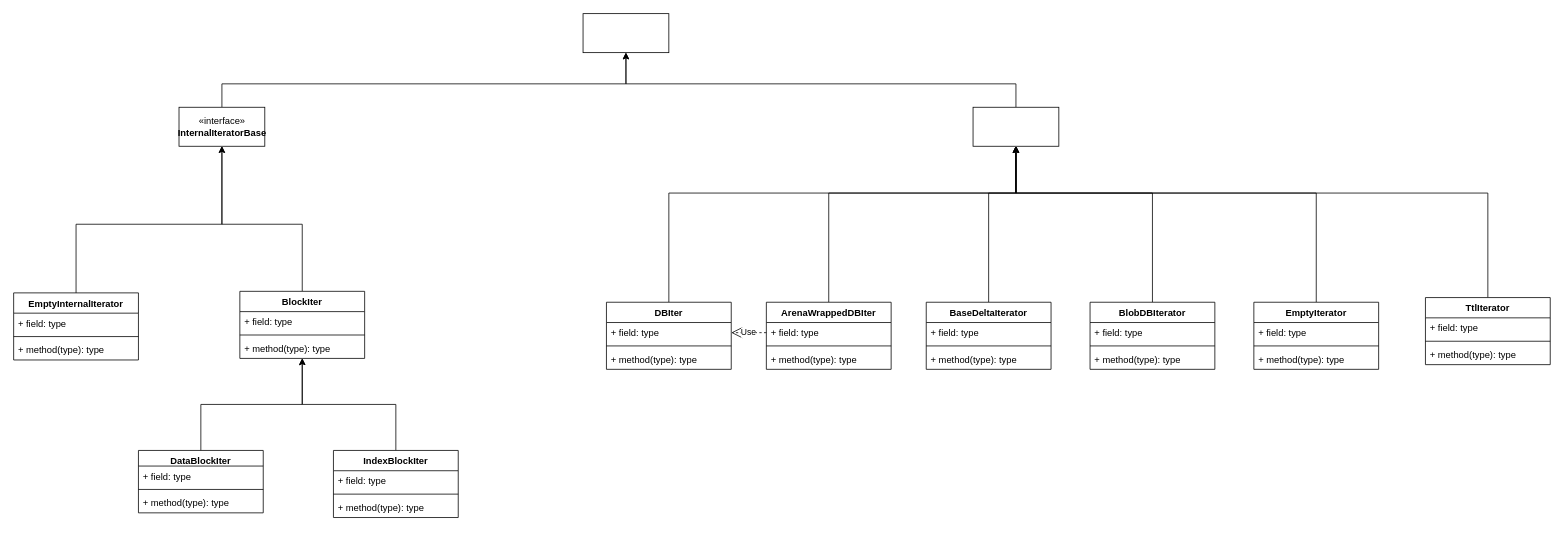
The diagram is 1564 pixels wide and 534 high, and some of its shapes have lost their labels. The centre of each missing label's shape, as x and y in pixels:
"«interface» Cleanable" belongs at pixel 625 33.
"«interface» Iterator" belongs at pixel 1015 126.
